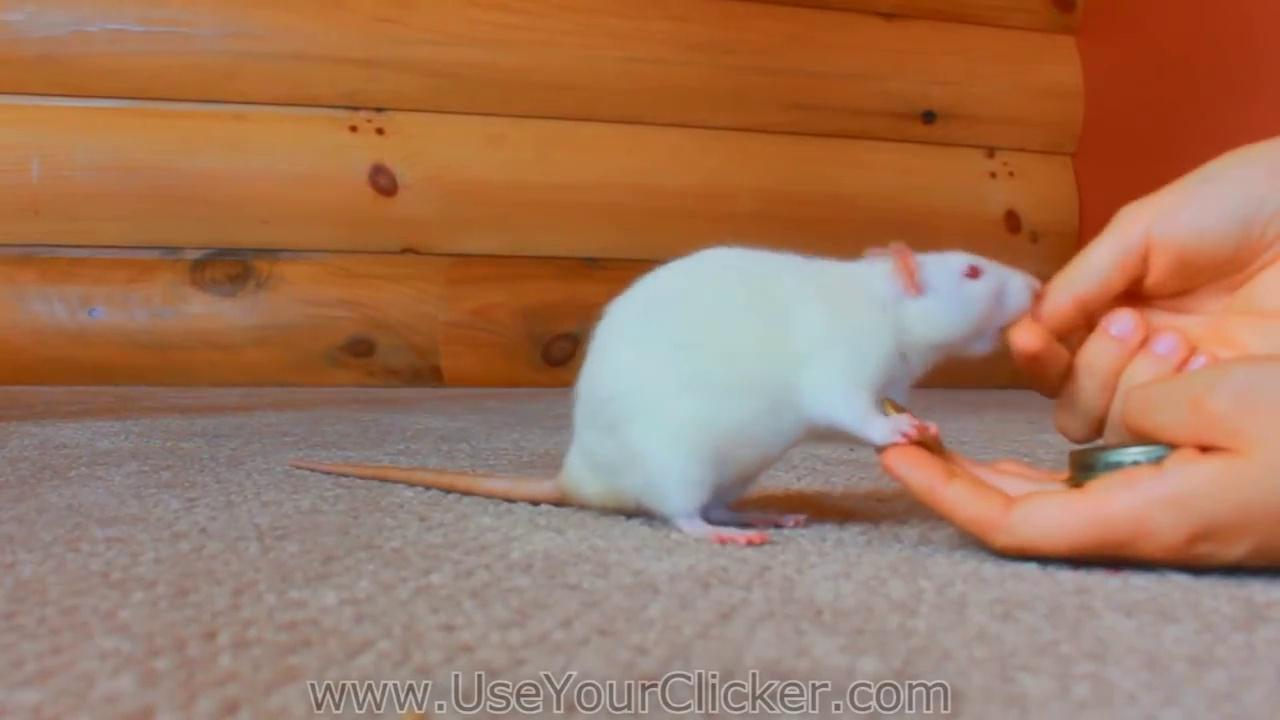rat: (288, 244, 1038, 549)
